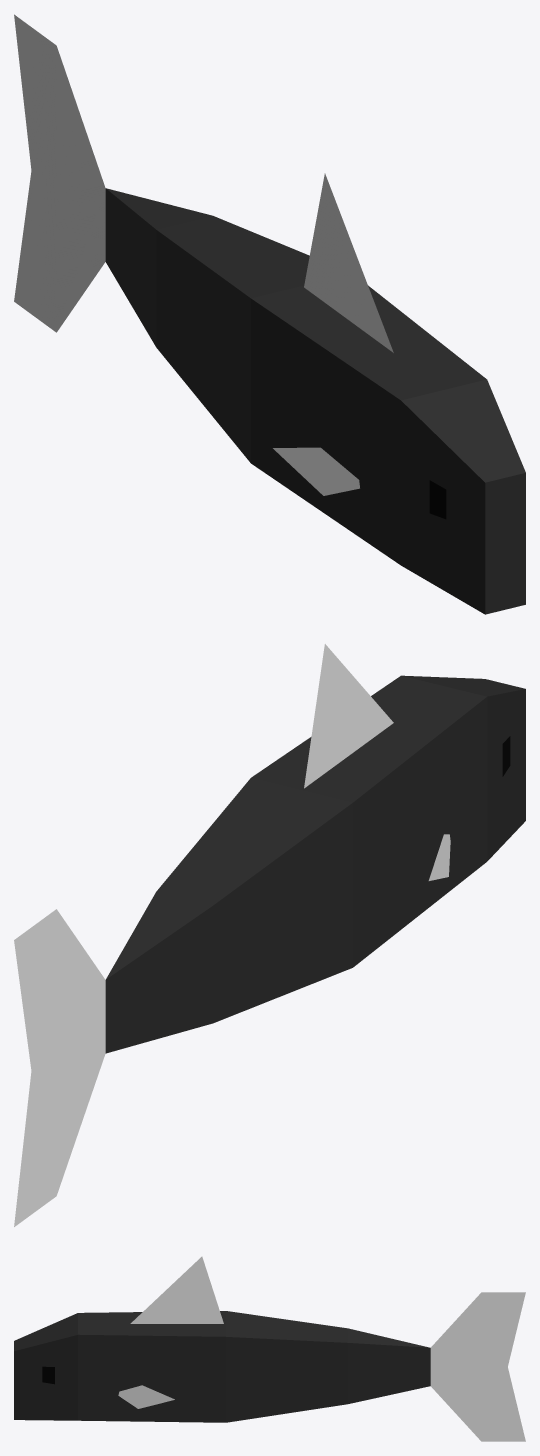
Rendered from 06minnow.fbx.
The picture shows the model from 3 angles, top to bottom: view 1: azimuth 30°, elevation 25°; view 2: azimuth 150°, elevation 25°; view 3: azimuth 270°, elevation 25°; orthographic projection. The views are drawn at different scales.
Parts seen in each view (by area): view 1: Tropical Fish 06; view 2: Tropical Fish 06; view 3: Tropical Fish 06.
Boxes of the visible parts, x1,y1,x2,y2 form: Tropical Fish 06: (14, 14, 525, 614); Tropical Fish 06: (14, 644, 525, 1226); Tropical Fish 06: (14, 1256, 525, 1441).
Size of the model in its own units: 27.55 by 60.06 by 150.
